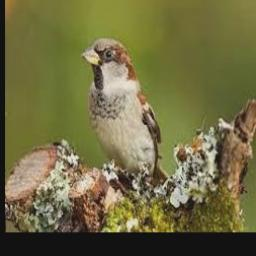Sparrow: (81, 38, 170, 188)
